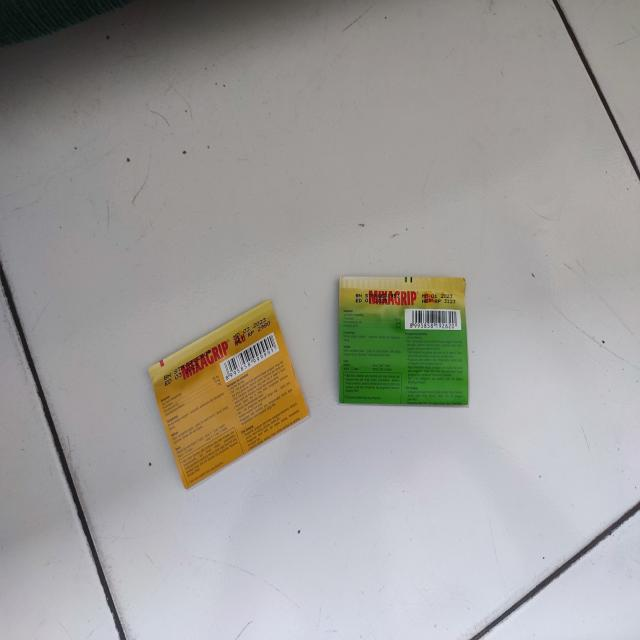B3: (150, 300, 310, 491), (338, 278, 470, 406)
